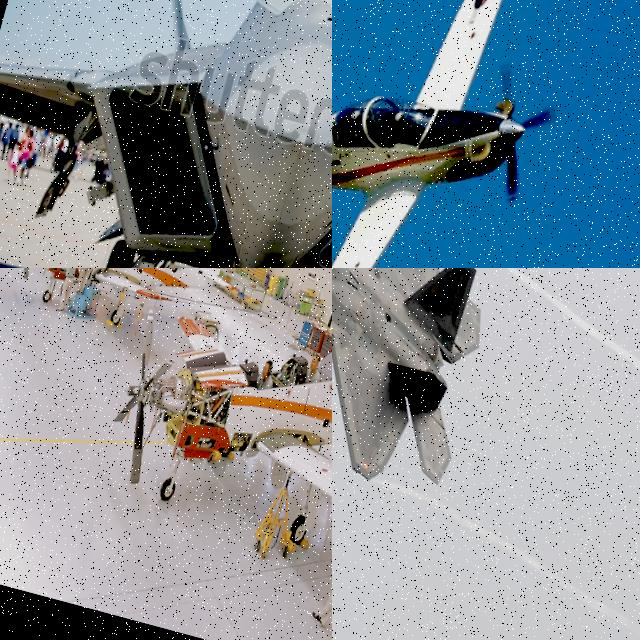F22: (0, 0, 332, 268), (332, 268, 514, 500)
KT-1: (98, 268, 332, 611), (332, 0, 613, 268), (26, 268, 235, 345)
